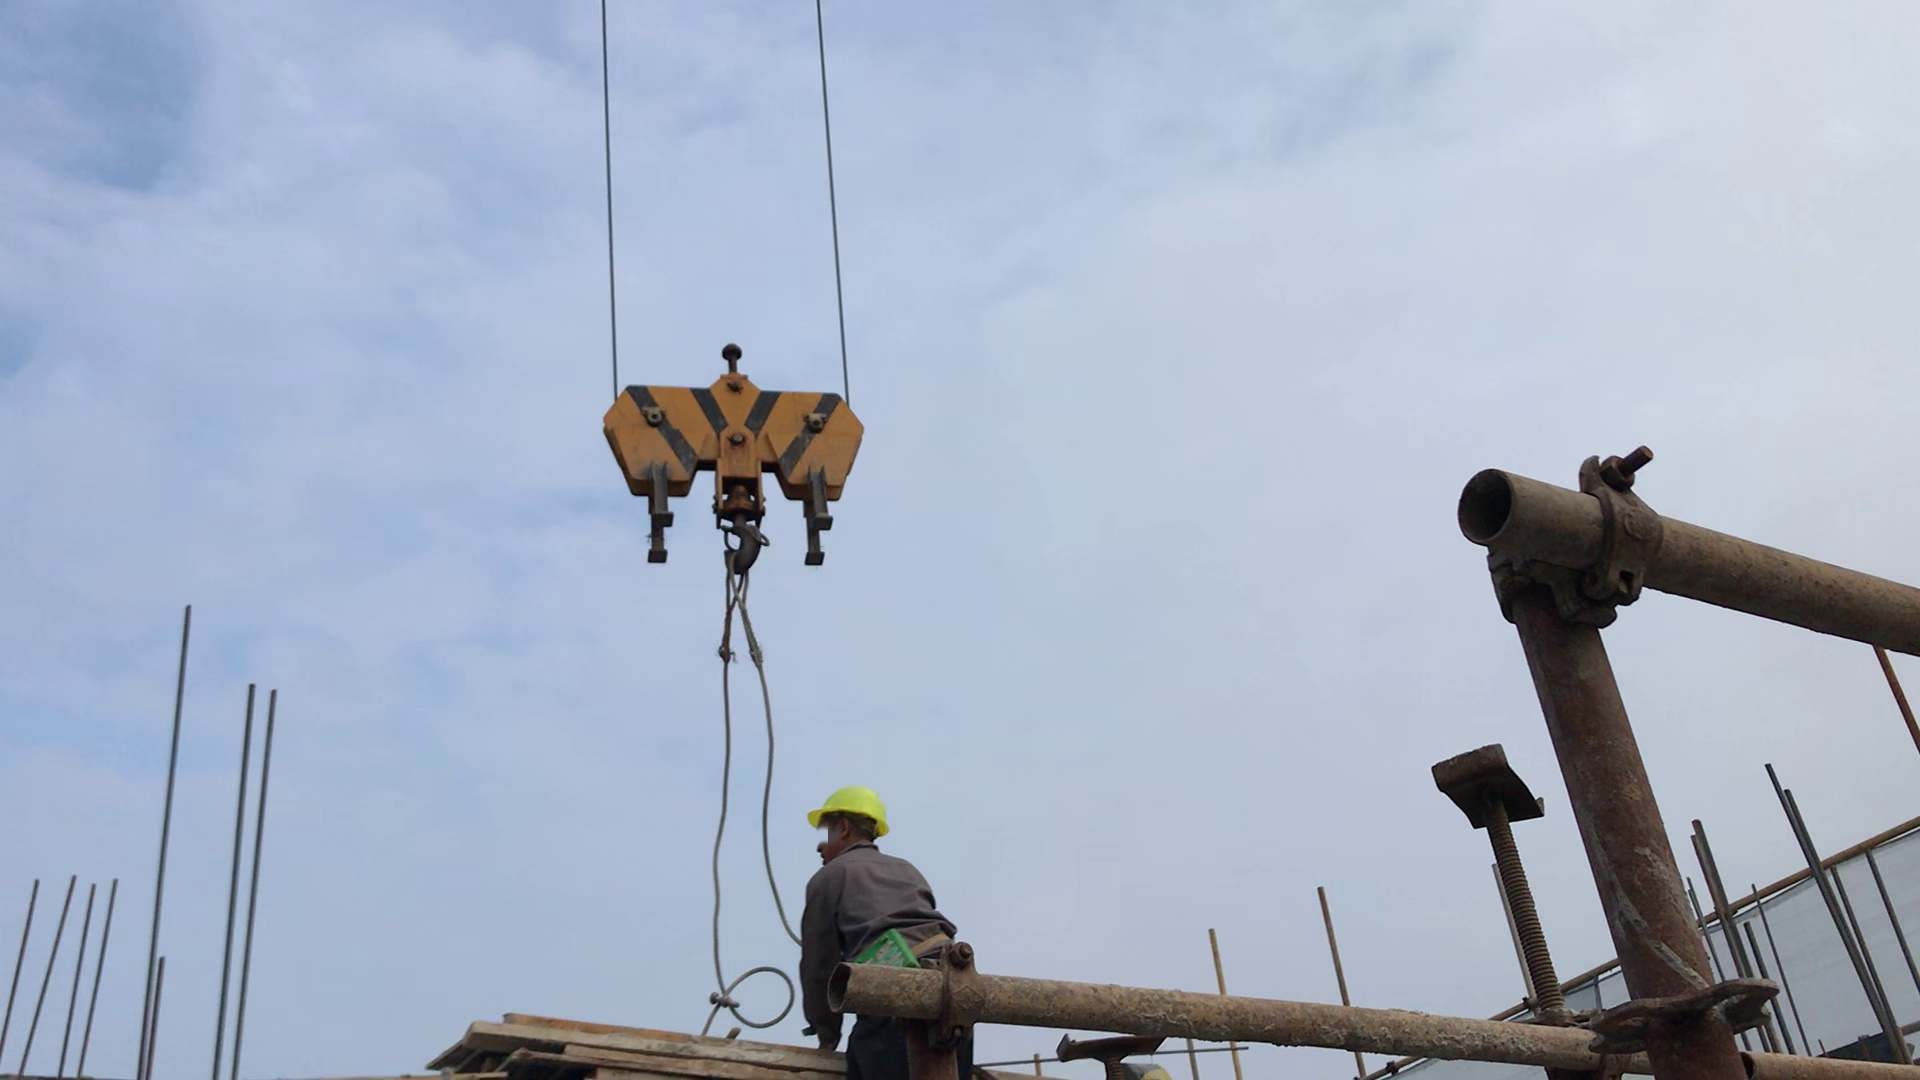board: (419, 1008, 849, 1080)
helmet: (806, 786, 899, 837)
hook: (599, 341, 884, 582)
person: (800, 786, 947, 1080)
